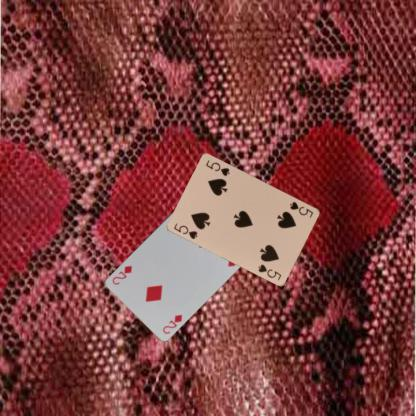2d: (160, 312, 184, 335)
5s: (288, 199, 315, 219), (172, 221, 198, 240)
